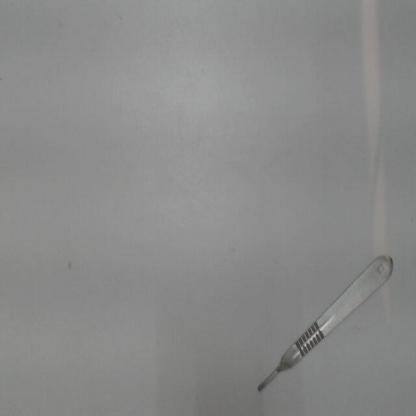No.3 BP Handle: (247, 247, 404, 404)
